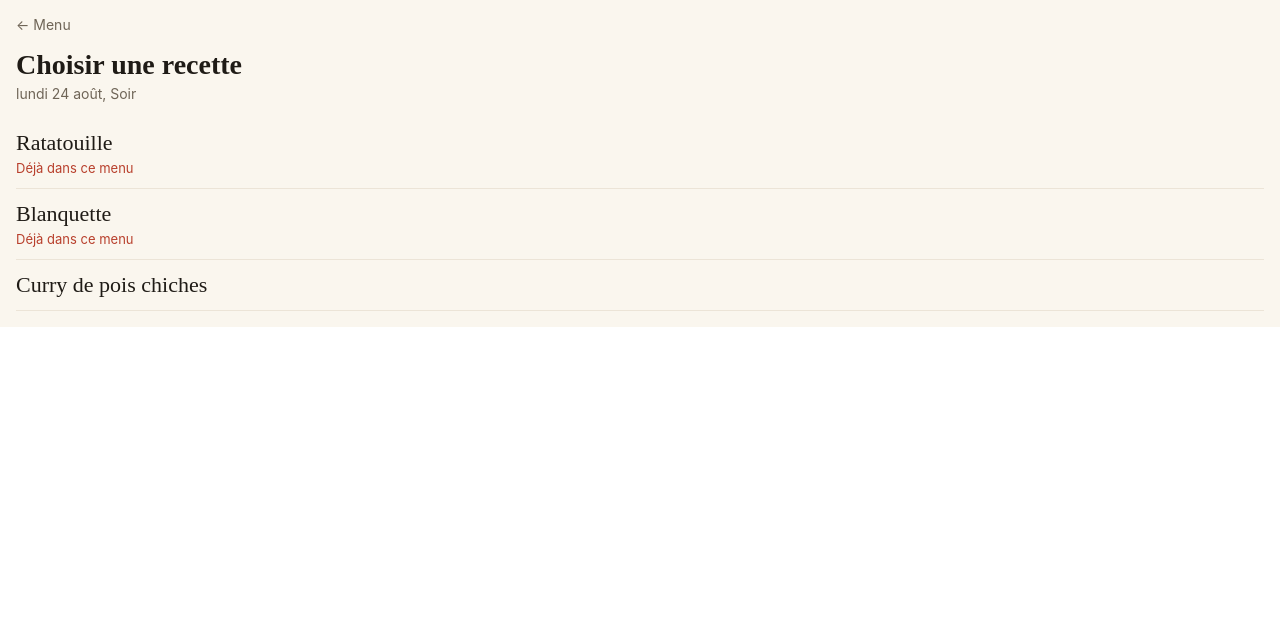
it: SlotChoiceContainer › une recette déjà au menu reste choisissable
Click the button "Ratatouille Déjà dans ce menu".
click(64, 142)  # box [16, 118, 1264, 188]
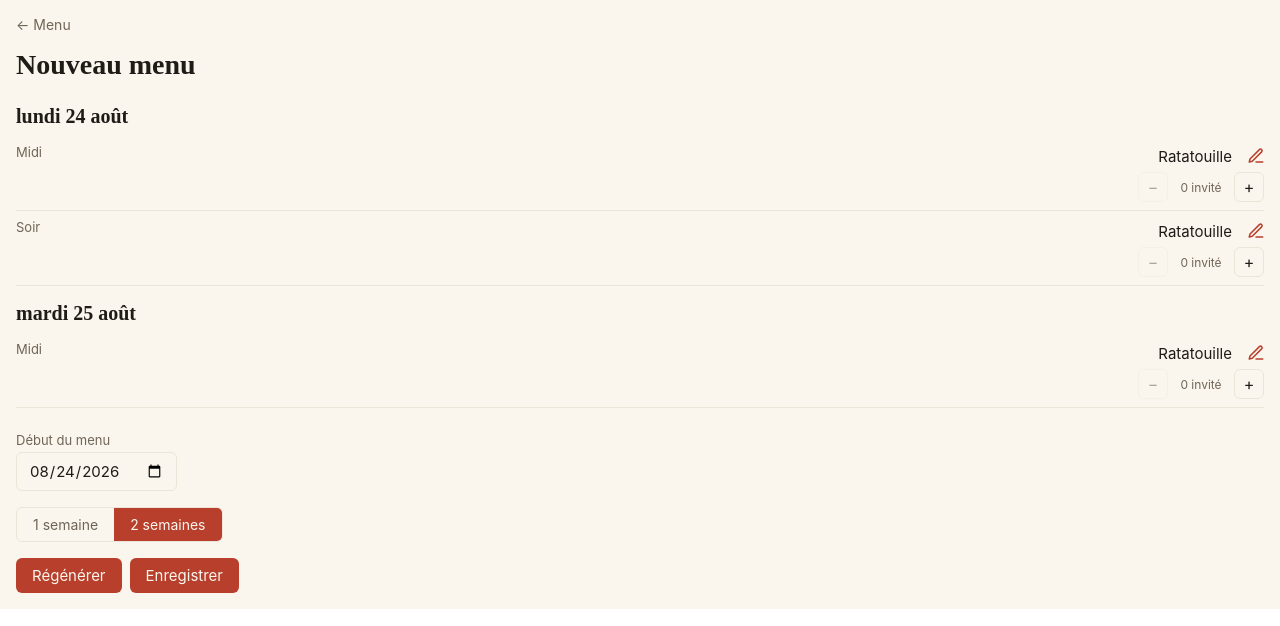
expect the button "Régénérer" is shown: met, box [16, 558, 122, 593]
